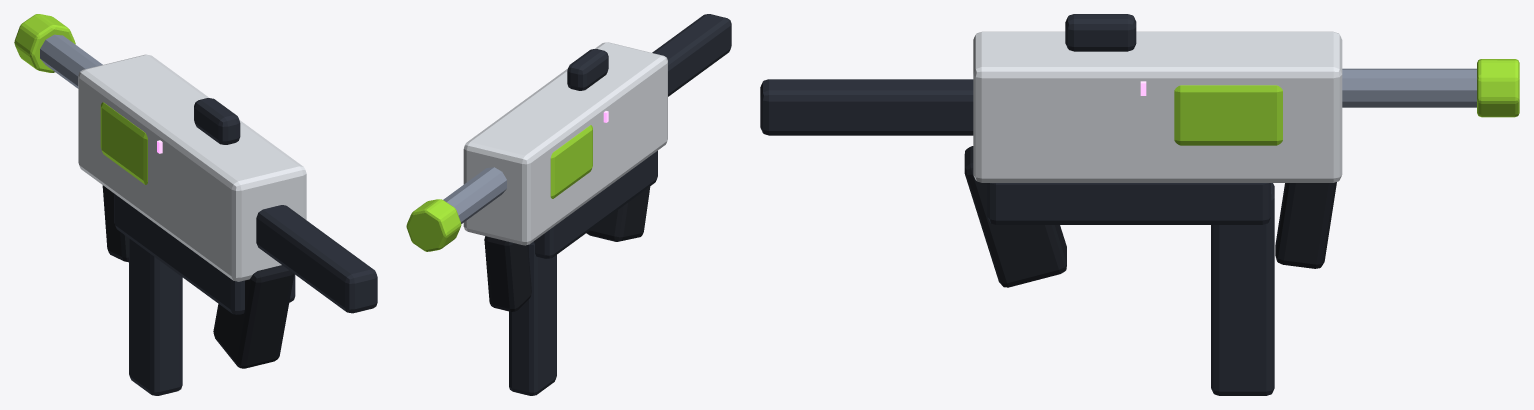
Rendered from smg.glb.
The picture shows the model from 3 angles, left to right: view 1: azimuth 30°, elevation 25°; view 2: azimuth 150°, elevation 25°; view 3: azimuth 270°, elevation 25°; orthographic projection. The views are drawn at different scales.
Visible parts, largest first — view 1: body, mag, stock, grip, lower, panel, suppressorRing, barrel, sight, foregrip; view 2: body, mag, lower, stock, foregrip, suppressorRing, panel, barrel, grip, sight; view 3: body, stock, lower, mag, panel, barrel, grip, foregrip, sight, suppressorRing.
Boxes of the visible parts, bbox=[...] form: body: bbox=[78, 54, 306, 281]; mag: bbox=[129, 238, 182, 395]; stock: bbox=[256, 205, 377, 313]; grip: bbox=[213, 265, 294, 368]; lower: bbox=[114, 194, 295, 314]; panel: bbox=[100, 102, 147, 184]; suppressorRing: bbox=[14, 14, 75, 72]; barrel: bbox=[40, 34, 102, 88]; sight: bbox=[194, 98, 240, 144]; foregrip: bbox=[102, 185, 128, 262]; body: bbox=[463, 42, 667, 245]; mag: bbox=[509, 241, 556, 395]; lower: bbox=[534, 150, 657, 258]; stock: bbox=[652, 14, 731, 96]; foregrip: bbox=[484, 236, 531, 311]; suppressorRing: bbox=[406, 199, 461, 251]; panel: bbox=[550, 125, 592, 198]; barrel: bbox=[443, 167, 506, 223]; grip: bbox=[586, 186, 650, 241]; sight: bbox=[567, 49, 608, 90]; body: bbox=[973, 31, 1342, 182]; stock: bbox=[760, 79, 973, 135]; lower: bbox=[987, 183, 1271, 224]; mag: bbox=[1211, 183, 1274, 395]; panel: bbox=[1174, 85, 1282, 145]; barrel: bbox=[1342, 68, 1476, 107]; grip: bbox=[964, 146, 1066, 287]; foregrip: bbox=[1275, 182, 1336, 268]; sight: bbox=[1065, 14, 1136, 51]; suppressorRing: bbox=[1477, 59, 1519, 117].
Size of the model in its own units: 0.076 by 0.2905 by 0.535.
